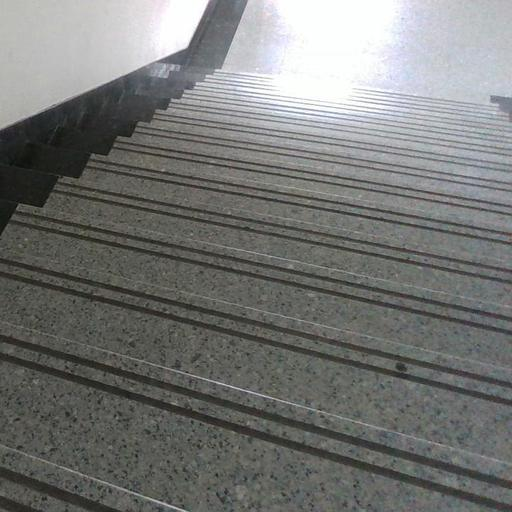stairs: (0, 69, 511, 511)
